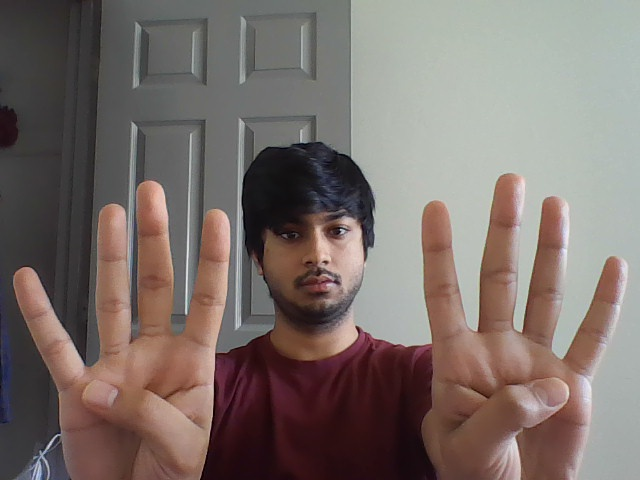four: (402, 165, 632, 387), (7, 173, 253, 370)
